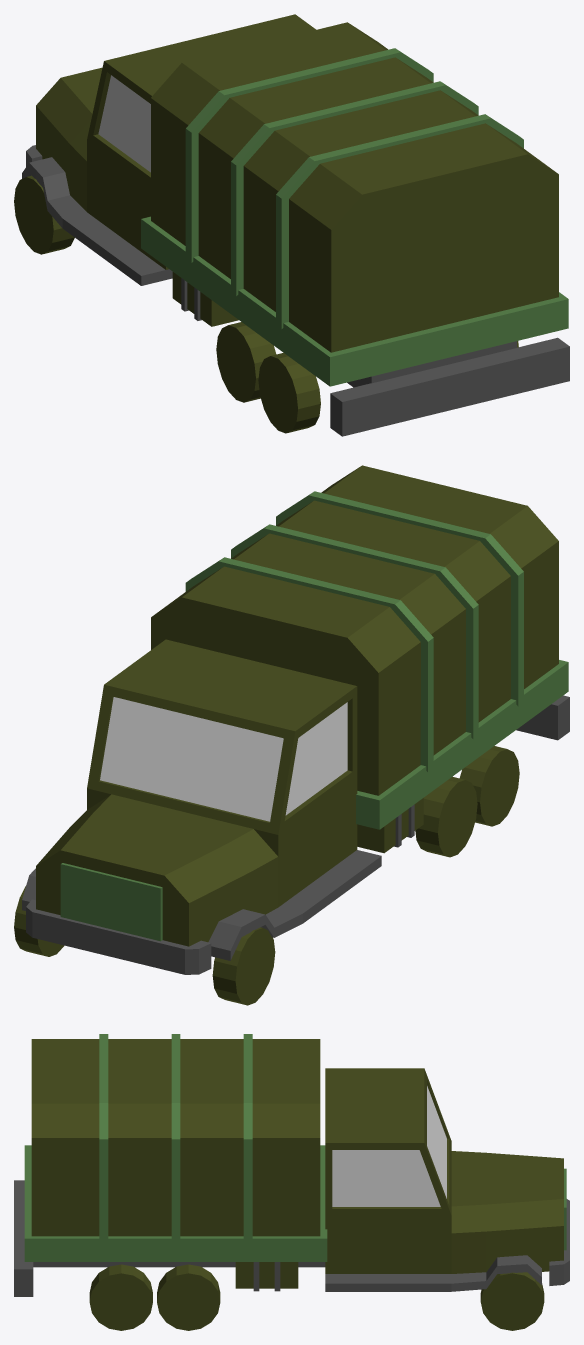
File: Truck_02.glb
The picture shows the model from 3 angles, top to bottom: view 1: azimuth 30°, elevation 25°; view 2: azimuth 150°, elevation 25°; view 3: azimuth 270°, elevation 25°; orthographic projection. The views are drawn at different scales.
Visible parts, largest first — view 1: SM_Truck_02; view 2: SM_Truck_02; view 3: SM_Truck_02.
Part boxes in pixels (x1,y1,x2,y2): SM_Truck_02: [14, 14, 569, 436]; SM_Truck_02: [14, 465, 569, 1005]; SM_Truck_02: [14, 1034, 569, 1330].
Size of the model in its own units: 2.82 by 3.04 by 7.
